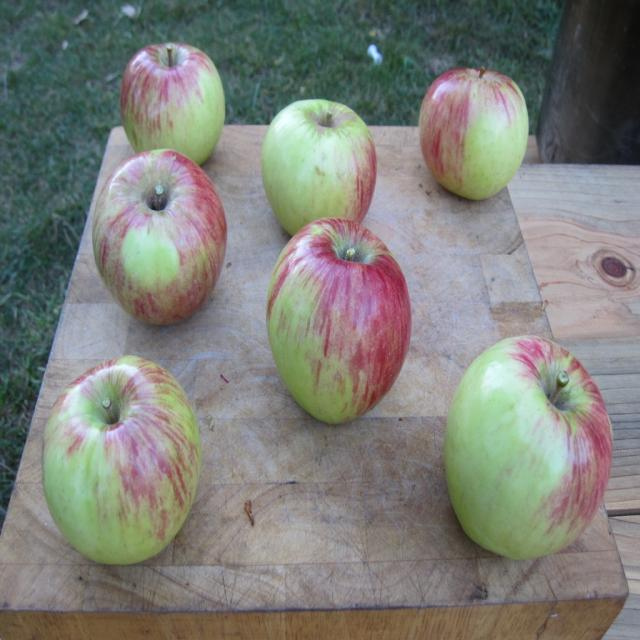Healty Apple: (447, 333, 608, 565), (40, 353, 203, 568), (267, 214, 412, 428), (93, 150, 229, 324), (260, 98, 378, 238), (418, 69, 528, 202), (119, 42, 226, 167)
